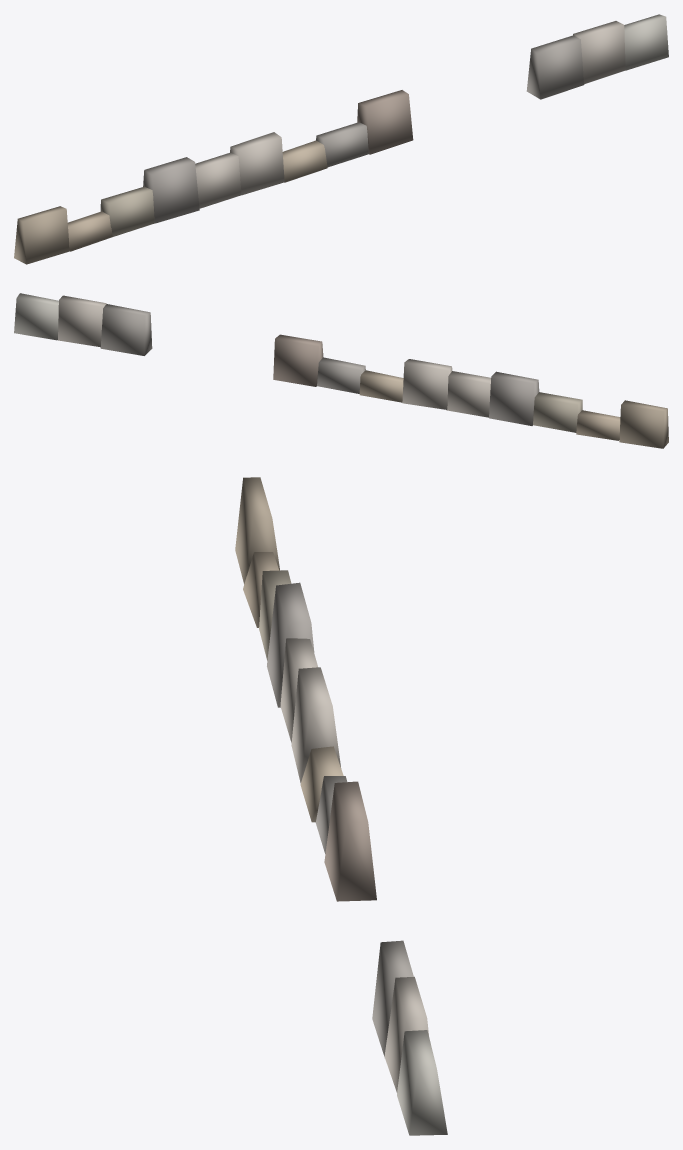
File: farm_19_14_far.glb
3 renders of one model, top to bottom at view 1: azimuth 30°, elevation 25°; view 2: azimuth 150°, elevation 25°; view 3: azimuth 270°, elevation 25°, orthographic. The views are drawn at different scales.
Parts seen in each view (by area): view 1: geometry_0; view 2: geometry_0; view 3: geometry_0.
Boxes of the visible parts, x1=… form: geometry_0: x1=14, y1=14, x2=668, y2=264; geometry_0: x1=14, y1=293, x2=668, y2=448; geometry_0: x1=235, y1=477, x2=447, y2=1135.
Size of the model in its own units: 23.4 by 1.55 by 3.56.
